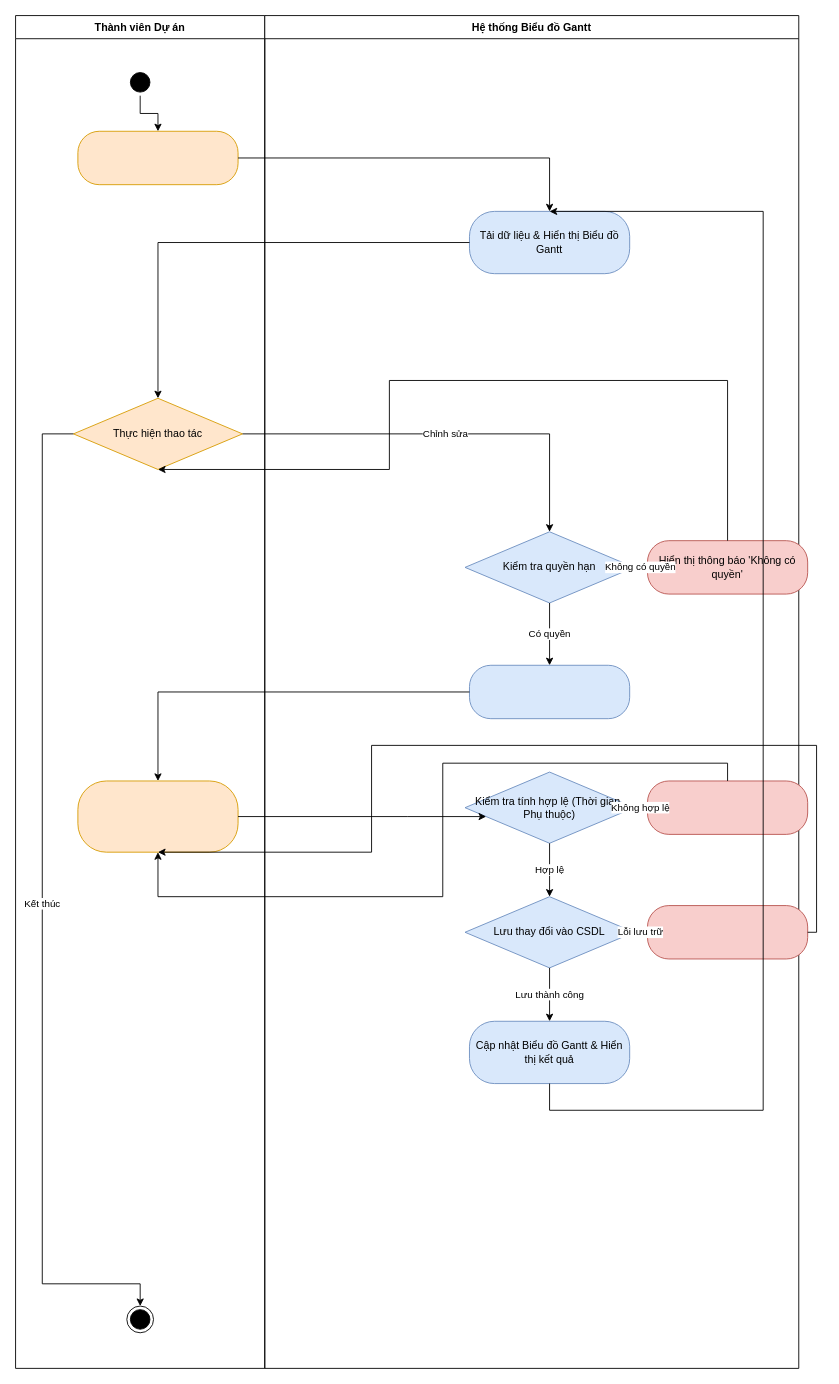
Some shapes in this 839 by 1384 pixel diagram are drawn without their labels. Here are the shapes that lost their labels. From the top down, the centre of each, then its label:
point (157, 157): Truy cập Biểu đồ Gantt
point (549, 691): Hiển thị form/giao diện tương ứng
point (157, 816): Thay đổi (Kéo-thả, Nhấp đúp, Tạo liên kết) & Xác nhận
point (727, 807): Hiển thị thông báo lỗi tương ứng
point (727, 932): Hiển thị lỗi 'Lưu trữ thất bại'
